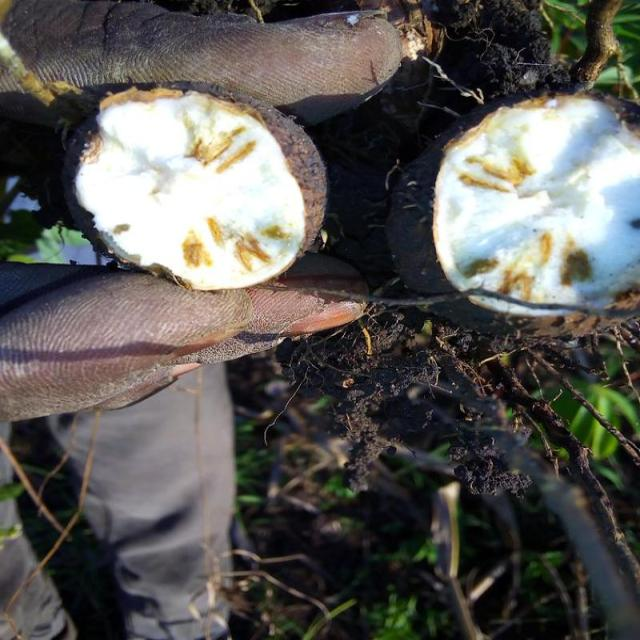cassava leaf: (0, 250, 369, 424), (60, 84, 317, 290), (431, 88, 638, 317)
